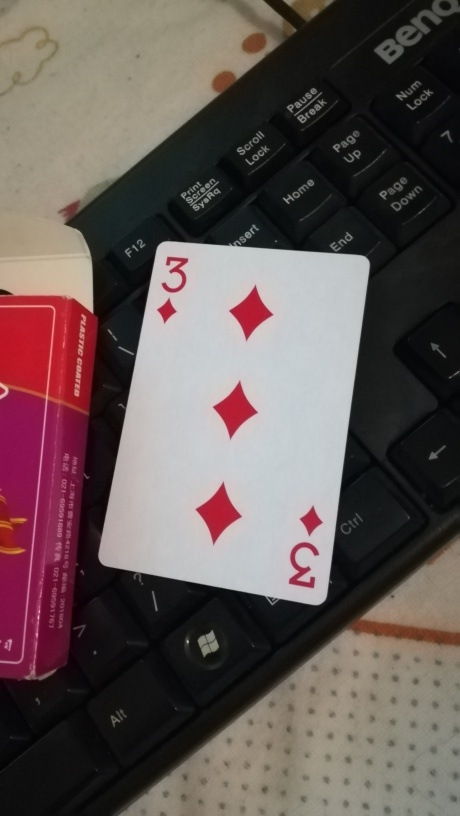fk 3: (96, 240, 374, 605)
